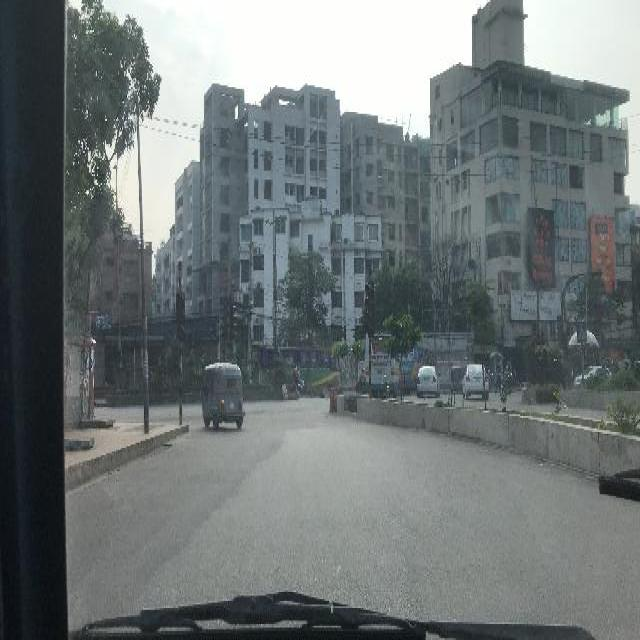bus: (366, 334, 398, 396), (400, 343, 416, 386)
car: (462, 362, 488, 402), (416, 366, 440, 396)
rickshaw: (292, 366, 314, 398)
three wheelers -CNG-: (200, 362, 244, 431), (451, 364, 462, 393)
